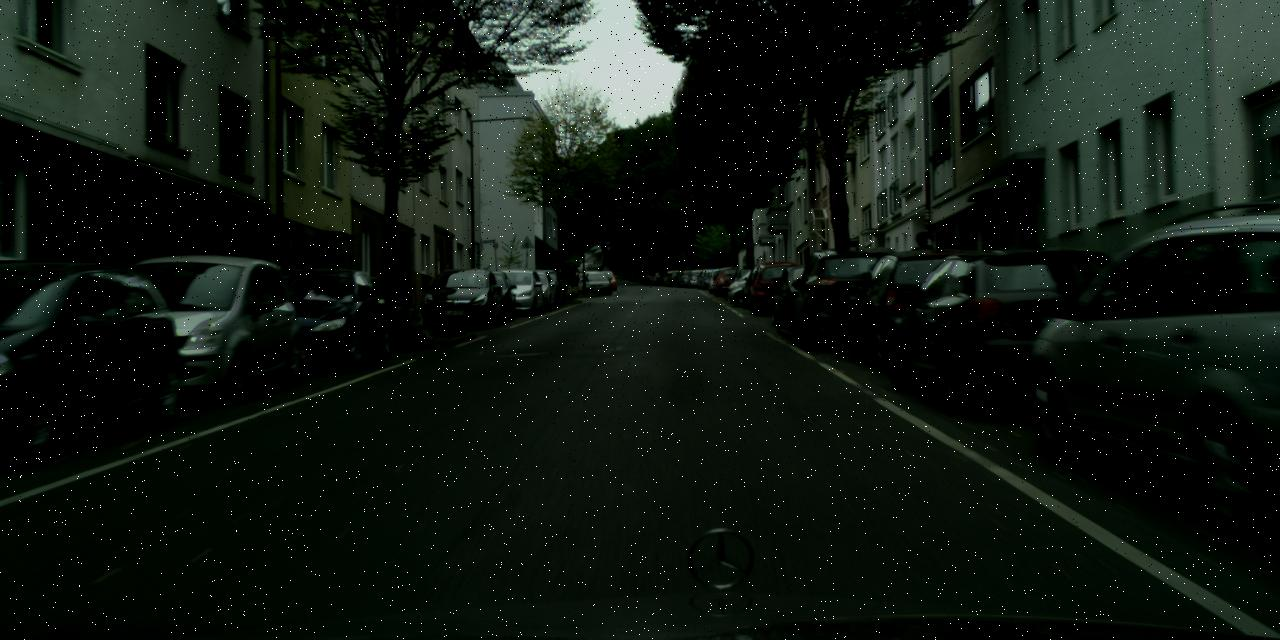ped: (905, 232, 939, 316), (940, 236, 972, 316), (573, 273, 581, 291)
